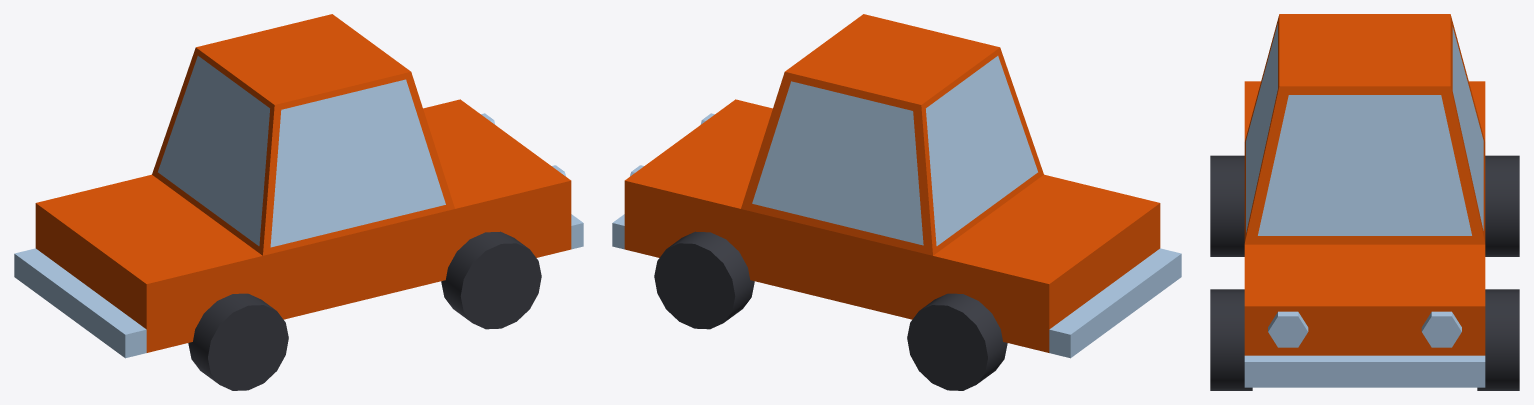
The model's file is CarAsset.fbx.
The picture shows the model from 3 angles, left to right: view 1: azimuth 30°, elevation 25°; view 2: azimuth 150°, elevation 25°; view 3: azimuth 270°, elevation 25°; orthographic projection. The views are drawn at different scales.
Visible parts, largest first — view 1: Car; view 2: Car; view 3: Car.
Boxes of the visible parts, x1,y1,x2,y2 form: Car: (14,14,583,390); Car: (612,14,1181,390); Car: (1210,14,1519,390).
Size of the model in its own units: 274 by 142 by 148.
